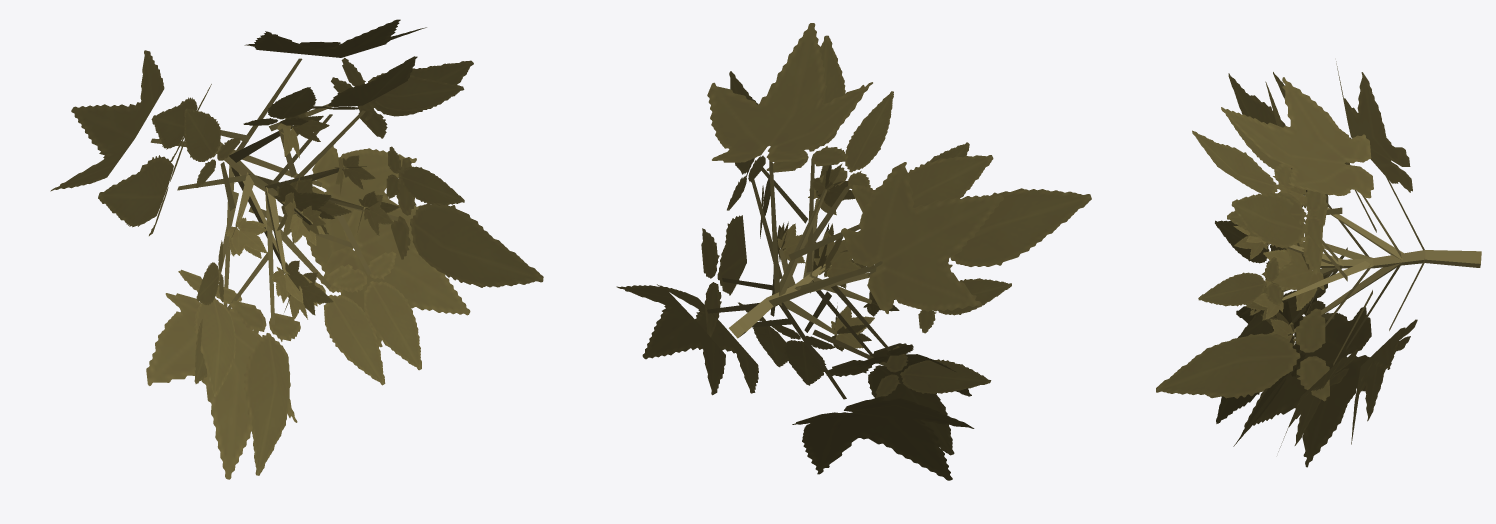
The model's file is p_afghan_vegetative_c2_cards.obj.
The picture shows the model from 3 angles, left to right: view 1: azimuth 30°, elevation 25°; view 2: azimuth 150°, elevation 25°; view 3: azimuth 270°, elevation 25°; orthographic projection. The views are drawn at different scales.
Bounding box in the file's own units: 1.21 × 1.22 × 0.806.
1 material, 1 textured.
